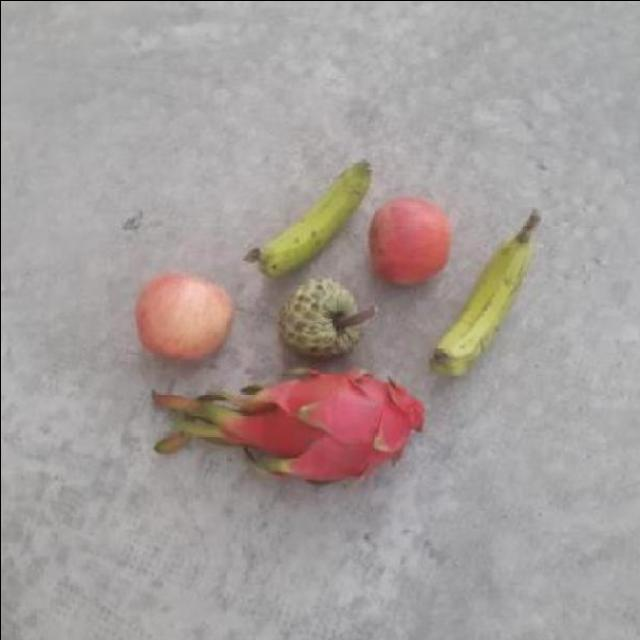apple: (134, 266, 238, 366), (360, 190, 458, 288)
banana: (422, 221, 542, 383), (245, 150, 373, 276)
dragon fruit: (224, 366, 424, 484)
sugar apple: (296, 234, 384, 328)
